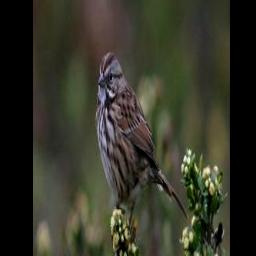Sparrow: (92, 50, 189, 246)
